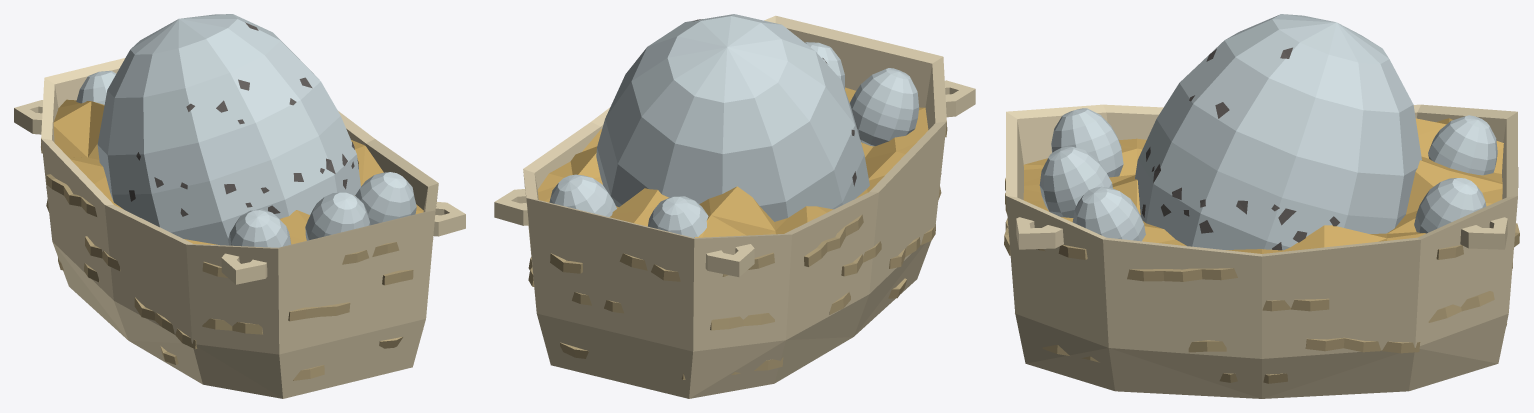
Rendered from BasketOfEgg.fbx.
3 renders of one model, left to right at view 1: azimuth 30°, elevation 25°; view 2: azimuth 150°, elevation 25°; view 3: azimuth 270°, elevation 25°, orthographic. The views are drawn at different scales.
Visible parts, largest first — view 1: Basket, Eggs, Hay; view 2: Basket, Eggs, Hay; view 3: Basket, Eggs, Hay.
Boxes of the visible parts, x1,y1,x2,y2 form: Basket: (14, 58, 465, 398); Eggs: (76, 14, 416, 247); Hay: (53, 99, 423, 245); Basket: (494, 15, 975, 398); Eggs: (549, 14, 919, 237); Hay: (537, 87, 928, 237); Basket: (1004, 104, 1519, 398); Eggs: (1039, 14, 1497, 250); Hay: (1023, 118, 1503, 253).
Size of the model in its own units: 141 by 139 by 212.
